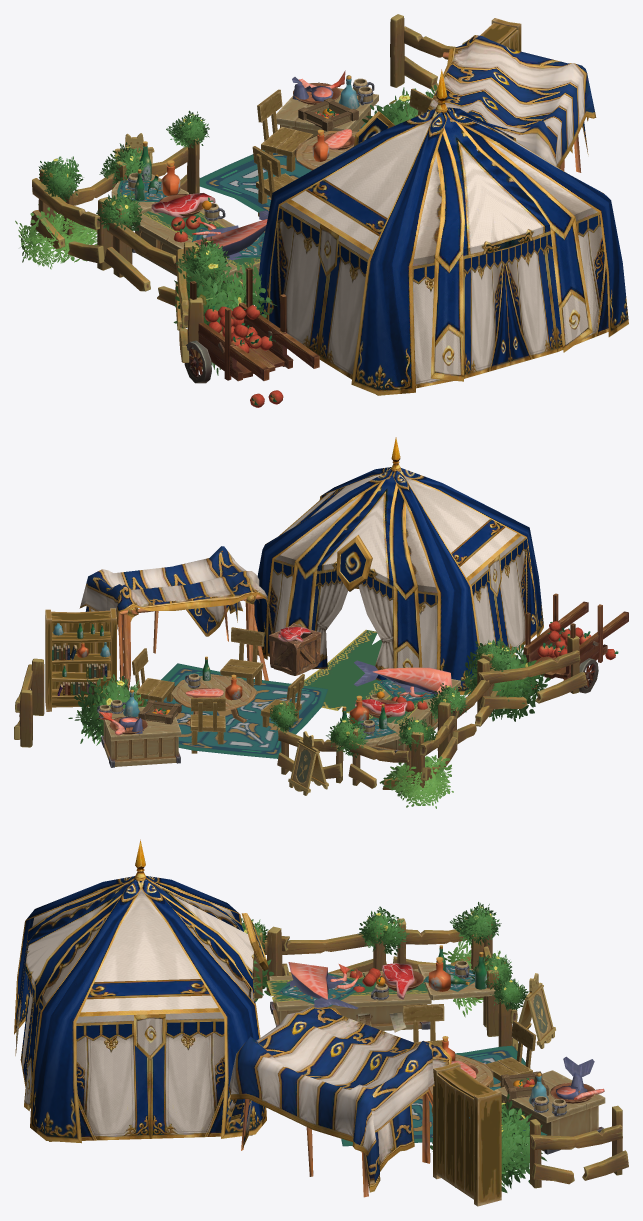
Rendered from MainCityDecor_Tavern_Tent.glb.
The picture shows the model from 3 angles, top to bottom: view 1: azimuth 30°, elevation 25°; view 2: azimuth 150°, elevation 25°; view 3: azimuth 270°, elevation 25°; orthographic projection. The views are drawn at different scales.
Parts seen in each view (by area): view 1: EnvCampsite_Detail__Tent___Basics___5__un5990112065721444296, EnvCampsite_Detail__Tent___Basics___3__un8185327119958648776, EnvCampsite_Detail__Cart__2__u1839297597352597560, EnvCampsite_Detail__Fence__2_2__u3915577815551137848, EnvDetail__Bush___221_1__u7700159670911850552, EnvCampsite_Detail__Fence__2_4__un7541745220903282632, EnvCampsite_Detail__Rug__2__u76864276023433272, EnvDetail__Bush___22__un2342070834623326152, EnvCampsite_Detail__Fence__2_3__u1375005714451879992, EnvCampsite_Detail__Fence__2_6__u187624452729231416, EnvUnit_Maincity__Table__u5881400135078729784, EnvUnit_Maincity__Table_1__un6269688174055499720 (+16 smaller); view 2: EnvCampsite_Detail__Tent___Basics___5__un5990112065721444296, EnvCampsite_Detail__Tent___Basics___3__un8185327119958648776, EnvCampsite_Detail__Rug__2__u76864276023433272, SM_PROP_bookshelf_dungeon_02__un5245363153346930632, EnvCampsite_Detail__Rug__4__un1264403593093818312, EnvCampsite_Detail__Cart__2__u1839297597352597560, EnvCampsite_Detail__Fence__2_6__u187624452729231416, EnvUnit_Maincity__Table_1__un6269688174055499720, EnvDetail__Bush___221_1__u7700159670911850552, EnvDetail__Bush___22__un2342070834623326152, EnvDetail__Bush___221__u1248943113435830328, EnvCampsite_Detail__Fence__2_2__u3915577815551137848 (+16 smaller); view 3: EnvCampsite_Detail__Tent___Basics___5__un5990112065721444296, EnvCampsite_Detail__Tent___Basics___3__un8185327119958648776, SM_PROP_bookshelf_dungeon_02__un5245363153346930632, EnvCampsite_Detail__Fence__2_3__u1375005714451879992, EnvUnit_Maincity__Table__u5881400135078729784, EnvUnit_Maincity__Table_1__un6269688174055499720, EnvDetail__Bush___221__u1248943113435830328, EnvCampsite_Detail__Fence__2_4__un7541745220903282632, EnvMaincity_Detail__food___3__un3042992850107148232, EnvMaincity_Detail__Placard__un1228315760232146888, EnvCampsite_Detail__Rug__2__u76864276023433272, EnvCampsite_Detail__Fence__2_2__u3915577815551137848 (+16 smaller).
Part boxes in pixels (bbox=[...]): EnvCampsite_Detail__Tent___Basics___5__un5990112065721444296: bbox=[257, 69, 628, 395]; EnvCampsite_Detail__Tent___Basics___3__un8185327119958648776: bbox=[415, 35, 596, 172]; EnvCampsite_Detail__Cart__2__u1839297597352597560: bbox=[184, 267, 319, 383]; EnvCampsite_Detail__Fence__2_2__u3915577815551137848: bbox=[30, 167, 113, 270]; EnvDetail__Bush___221_1__u7700159670911850552: bbox=[173, 258, 276, 375]; EnvCampsite_Detail__Fence__2_4__un7541745220903282632: bbox=[104, 204, 211, 306]; EnvCampsite_Detail__Rug__2__u76864276023433272: bbox=[199, 123, 366, 212]; EnvDetail__Bush___22__un2342070834623326152: bbox=[15, 204, 97, 269]; EnvCampsite_Detail__Fence__2_3__u1375005714451879992: bbox=[390, 14, 468, 90]; EnvCampsite_Detail__Fence__2_6__u187624452729231416: bbox=[175, 242, 203, 369]; EnvUnit_Maincity__Table__u5881400135078729784: bbox=[132, 209, 259, 294]; EnvUnit_Maincity__Table_1__un6269688174055499720: bbox=[276, 88, 378, 136]; EnvCampsite_Detail__Tent___Basics___5__un5990112065721444296: bbox=[254, 437, 543, 695]; EnvCampsite_Detail__Tent___Basics___3__un8185327119958648776: bbox=[79, 546, 269, 690]; EnvCampsite_Detail__Rug__2__u76864276023433272: bbox=[137, 663, 327, 758]; SM_PROP_bookshelf_dungeon_02__un5245363153346930632: bbox=[45, 608, 116, 711]; EnvCampsite_Detail__Rug__4__un1264403593093818312: bbox=[303, 629, 384, 713]; EnvCampsite_Detail__Cart__2__u1839297597352597560: bbox=[520, 593, 628, 693]; EnvCampsite_Detail__Fence__2_6__u187624452729231416: bbox=[477, 635, 586, 716]; EnvUnit_Maincity__Table_1__un6269688174055499720: bbox=[101, 707, 181, 767]; EnvDetail__Bush___221_1__u7700159670911850552: bbox=[461, 639, 550, 721]; EnvDetail__Bush___22__un2342070834623326152: bbox=[379, 755, 453, 808]; EnvDetail__Bush___221__u1248943113435830328: bbox=[68, 674, 149, 745]; EnvCampsite_Detail__Fence__2_2__u3915577815551137848: bbox=[411, 702, 457, 787]; EnvCampsite_Detail__Tent___Basics___5__un5990112065721444296: bbox=[14, 839, 268, 1143]; EnvCampsite_Detail__Tent___Basics___3__un8185327119958648776: bbox=[227, 1006, 451, 1197]; SM_PROP_bookshelf_dungeon_02__un5245363153346930632: bbox=[433, 1062, 501, 1206]; EnvCampsite_Detail__Fence__2_3__u1375005714451879992: bbox=[530, 1105, 628, 1188]; EnvUnit_Maincity__Table__u5881400135078729784: bbox=[269, 969, 431, 1030]; EnvUnit_Maincity__Table_1__un6269688174055499720: bbox=[494, 1070, 605, 1154]; EnvDetail__Bush___221__u1248943113435830328: bbox=[430, 1093, 546, 1192]; EnvCampsite_Detail__Fence__2_4__un7541745220903282632: bbox=[253, 921, 386, 998]; EnvMaincity_Detail__food___3__un3042992850107148232: bbox=[286, 962, 358, 1009]; EnvMaincity_Detail__Placard__un1228315760232146888: bbox=[518, 973, 555, 1048]; EnvCampsite_Detail__Rug__2__u76864276023433272: bbox=[341, 1045, 547, 1146]; EnvCampsite_Detail__Fence__2_2__u3915577815551137848: bbox=[393, 913, 492, 969].
Size of the model in its own units: 12.1 by 6.75 by 13.12.
Materials: 18 (18 with a texture image).
